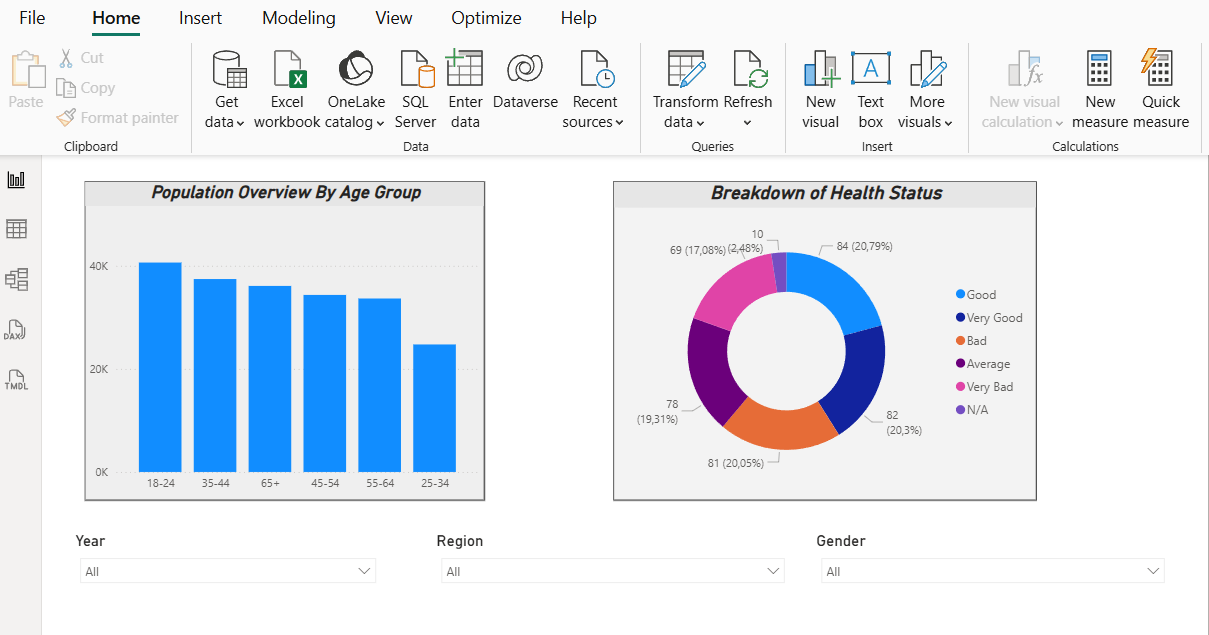

The page's visual inventory and layout, read from the dashboard file:
{"tool":"powerbi","page":{"name":"Overview","canvas":[1280,720],"ordinal":0},"visuals":[{"type":"clusteredColumnChart","title":"Population Overview By Age Group","fields":{"Y":["Sum(Clean-Up data task 4.Count)"],"Category":["Clean-Up data task 4.AgeGroup"]},"box":[46.6,28.3,439.6,350.5],"z":0},{"type":"donutChart","title":"Breakdown of Health Status ","fields":{"Category":["Clean-Up data task 4.HealthStatus"],"Y":["CountNonNull(Clean-Up data task 4.HealthStatus)"]},"box":[627.6,28.3,465,350.5],"z":1000},{"type":"slicer","title":"Year","fields":{"Values":["Clean-Up data task 4.Year"]},"box":[31.1,412.7,344.9,128.6],"z":2000},{"type":"slicer","title":"Region","fields":{"Values":["Clean-Up data task 4.Region"]},"box":[428.3,412.7,397.2,128.6],"z":3000},{"type":"slicer","title":"Gender","fields":{"Values":["Clean-Up data task 4.Gender"]},"box":[845.2,412.7,397.2,128.6],"z":4000}]}

Visuals, with their boxes on the page's 1280x720 design canvas (x1, y1, x2, y2). These are canvas units, not pixel positions in the 1209x635 screenshot, which may show the page scaled, cropped or inside an application window:
"Population Overview By Age Group" clusteredColumnChart: <box>47,28,486,379</box>
"Breakdown of Health Status " donutChart: <box>628,28,1093,379</box>
"Year" slicer: <box>31,413,376,541</box>
"Region" slicer: <box>428,413,826,541</box>
"Gender" slicer: <box>845,413,1242,541</box>
